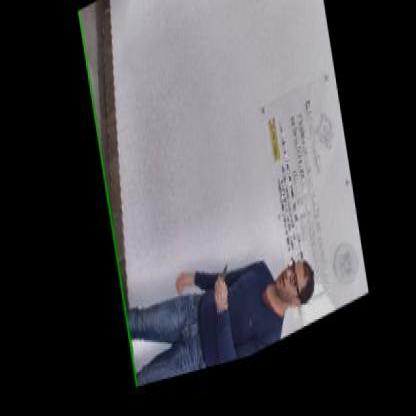knife: (208, 268, 228, 300)
